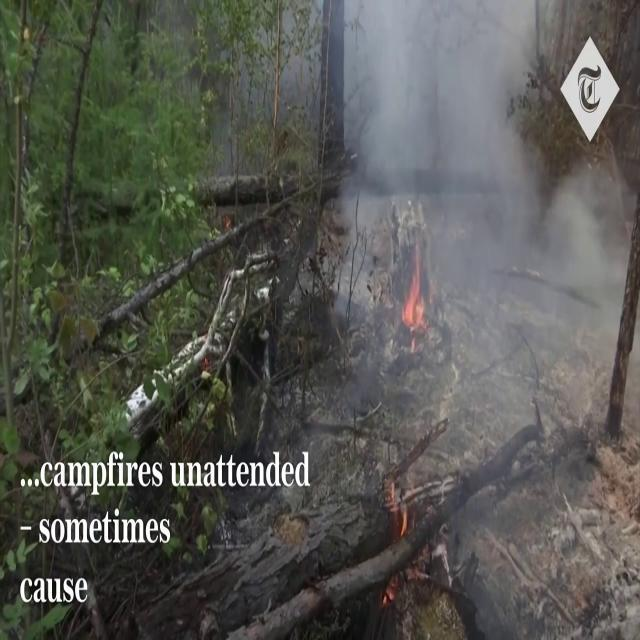Fire: (400, 246, 430, 340)
Smoke: (329, 1, 624, 386)
